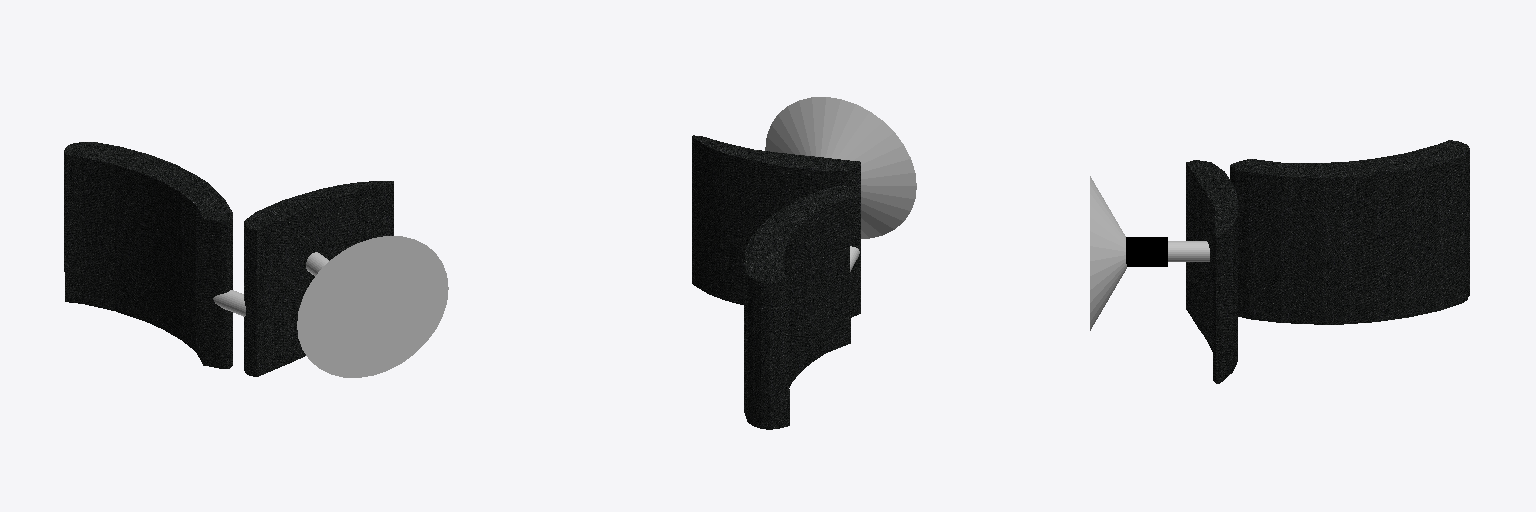
3 renders of one model, left to right at view 1: azimuth 30°, elevation 25°; view 2: azimuth 150°, elevation 25°; view 3: azimuth 270°, elevation 25°, orthographic.
Parts seen in each view (by area): view 1: Cube; view 2: Cube; view 3: Cube.
Boxes of the visible parts, box(x1,y1,x2,y2) form: Cube: box(64, 142, 448, 377); Cube: box(692, 97, 916, 429); Cube: box(1090, 140, 1469, 383).
Bounding box in the file's own units: 5.79 × 4.26 × 8.94.
3 materials, 2 textured.